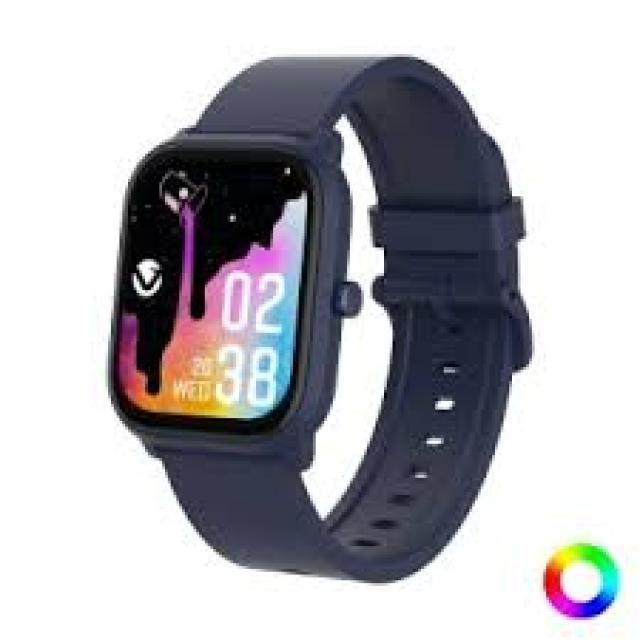objects: (108, 57, 529, 584)
